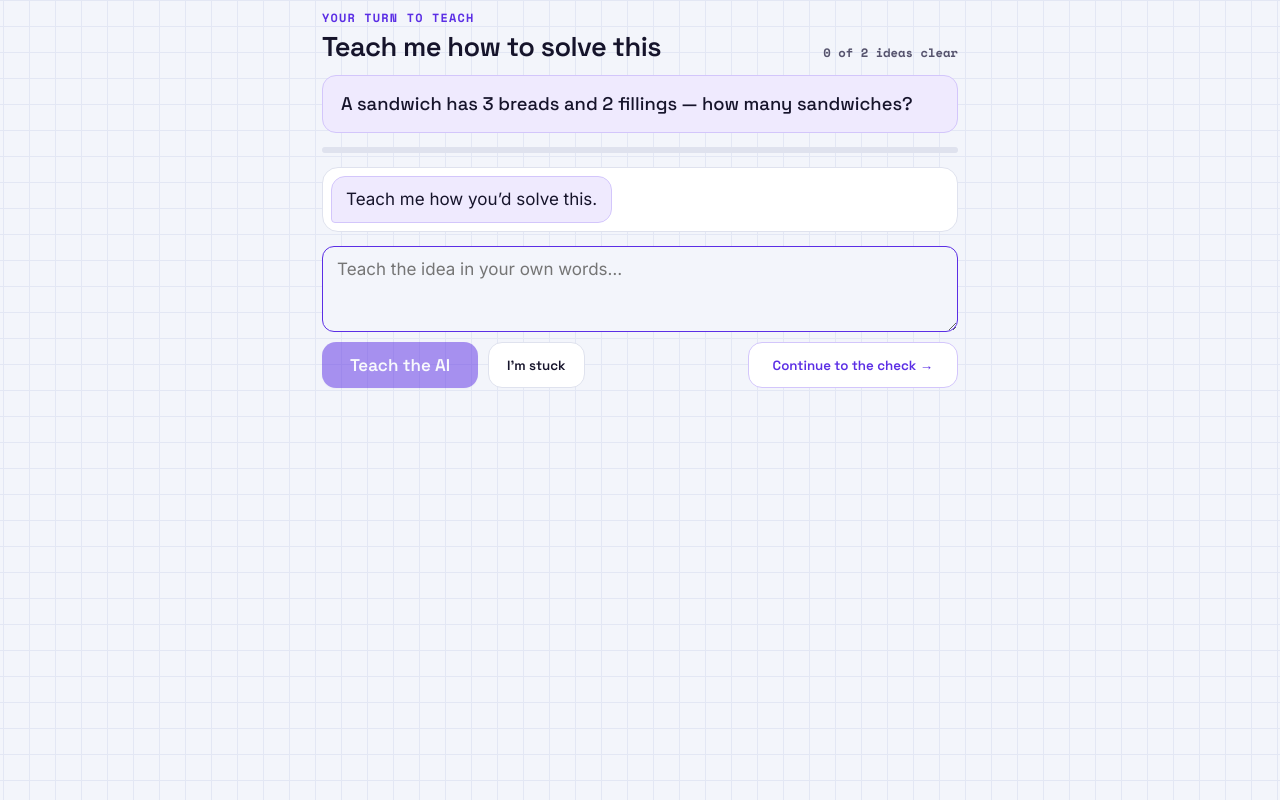
Test: TeachBackStep › asks the tutor to explain when the learner clicks "I’m stuck"
The width and height of the screenshot is (1280, 800).
Click the button "I’m stuck": (536,366) [488,342,585,388]
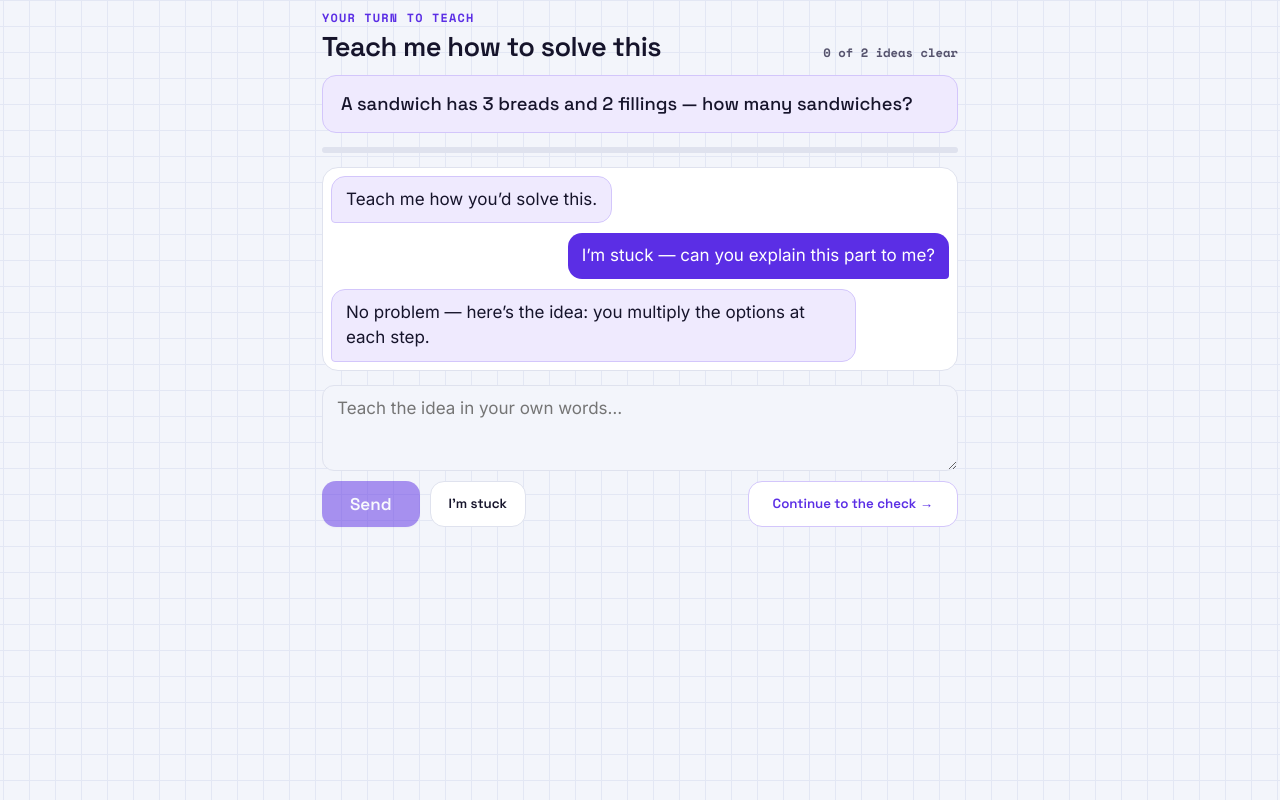
Now the text "here.s the idea" is shown, box [346,302,810,348]
